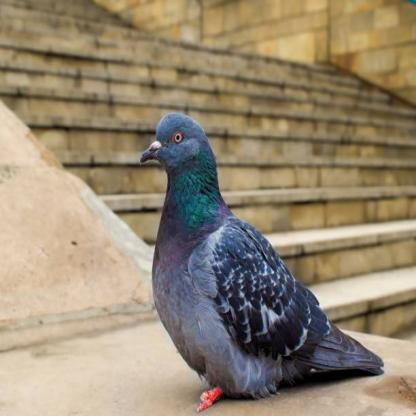Flying Rat: (135, 112, 361, 404)
